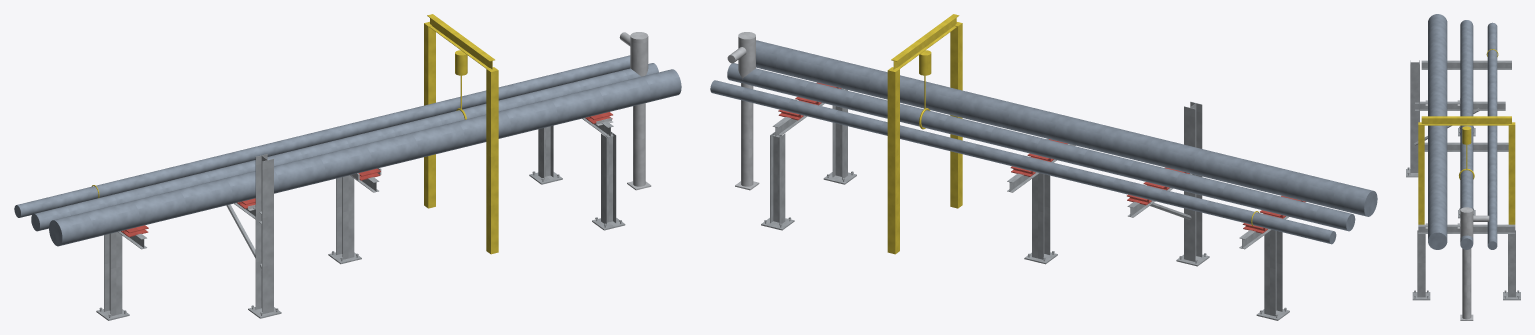
Rendered from pipe-supports-shoes-and-brackets.glb.
The picture shows the model from 3 angles, left to right: view 1: azimuth 30°, elevation 25°; view 2: azimuth 150°, elevation 25°; view 3: azimuth 270°, elevation 25°; orthographic projection. The views are drawn at different scales.
Visible parts, largest first — view 1: Pipes(context), T-Posts&Goalposts, SpringHanger&U-Bolt, CantileverBracket, Trunnion&DummyLeg, PipeShoes; view 2: Pipes(context), T-Posts&Goalposts, SpringHanger&U-Bolt, CantileverBracket, Trunnion&DummyLeg, PipeShoes; view 3: Pipes(context), T-Posts&Goalposts, SpringHanger&U-Bolt, CantileverBracket, Trunnion&DummyLeg.
Boxes of the visible parts, box(x1,y1,x2,y2) form: Pipes(context): box(14, 55, 681, 246); T-Posts&Goalposts: box(96, 118, 625, 320); SpringHanger&U-Bolt: box(91, 14, 498, 254); CantileverBracket: box(226, 154, 281, 318); Trunnion&DummyLeg: box(619, 32, 651, 190); PipeShoes: box(121, 112, 612, 236); Pipes(context): box(710, 40, 1377, 244); T-Posts&Goalposts: box(761, 88, 1289, 320); SpringHanger&U-Bolt: box(887, 14, 1258, 254); CantileverBracket: box(1127, 101, 1209, 266); Trunnion&DummyLeg: box(727, 32, 759, 190); PipeShoes: box(778, 82, 1305, 233); Pipes(context): box(1428, 14, 1497, 249); T-Posts&Goalposts: box(1412, 60, 1520, 300); SpringHanger&U-Bolt: box(1418, 49, 1515, 224); CantileverBracket: box(1406, 60, 1505, 177); Trunnion&DummyLeg: box(1460, 207, 1489, 320).
Bounding box in the file's own units: 16 × 4.74 × 3.55.
Materials: 5 (5 with a texture image).
